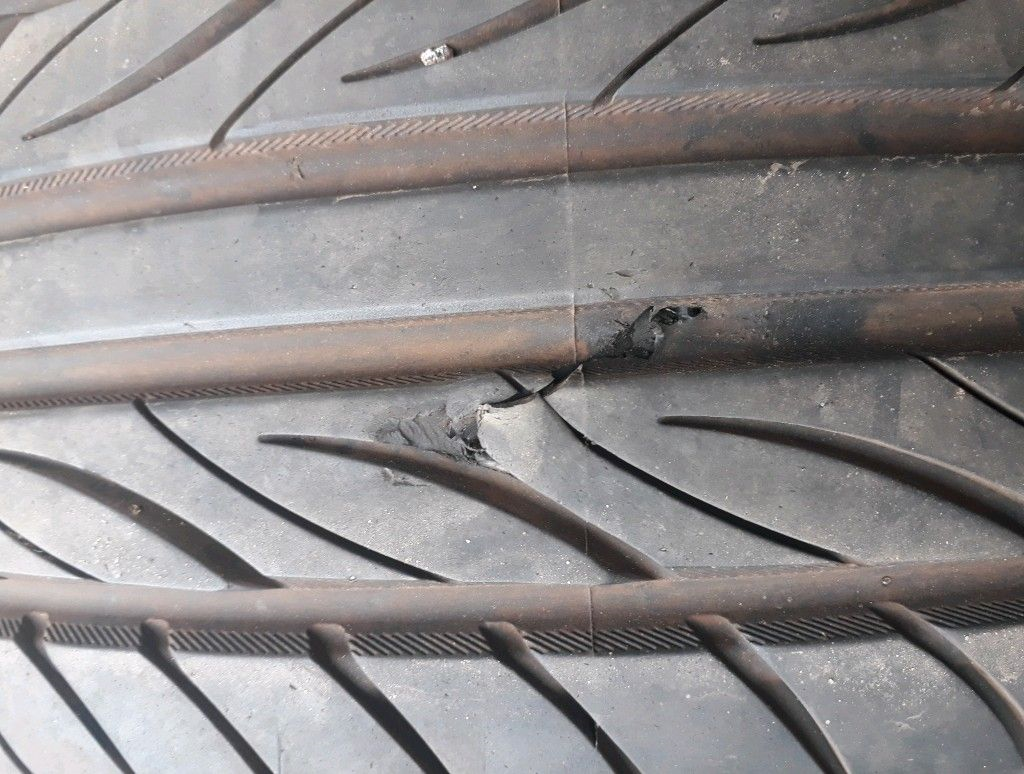tr: (358, 297, 715, 475)
